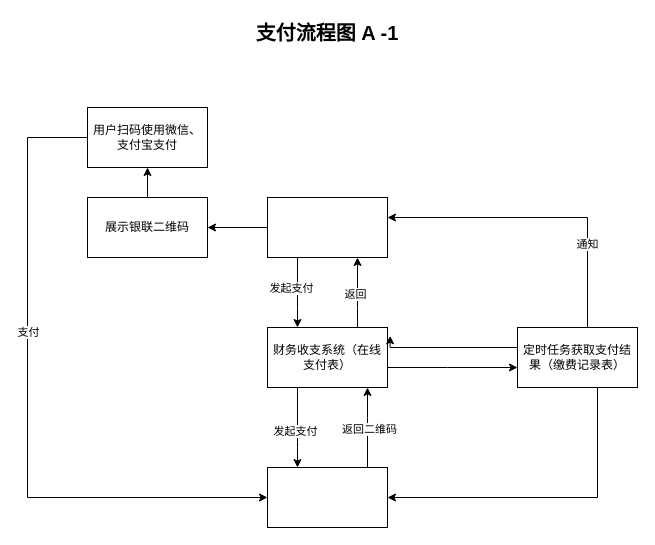
Image size: 655x545. Some labels were removed from this diagram. The box of each missing label's shape, as (x1, y1, x2, y2) in pixels:
政务平台: (266, 196, 388, 258)
银联: (266, 466, 388, 528)
